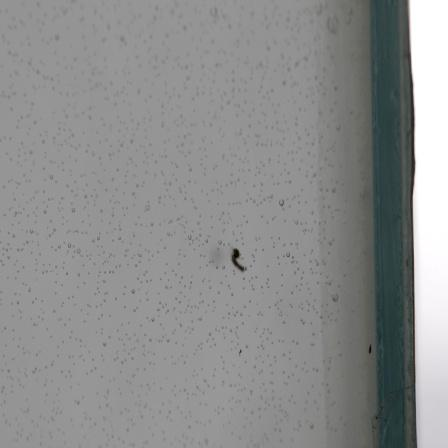Jentik-Nyamuk: (226, 244, 248, 275)
